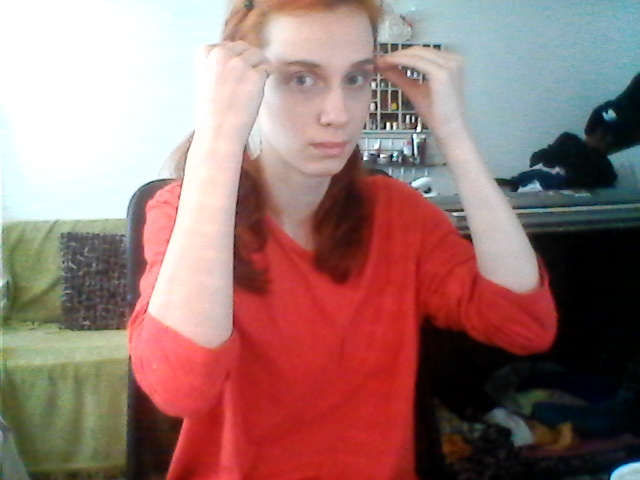ucit: (188, 25, 484, 100)
